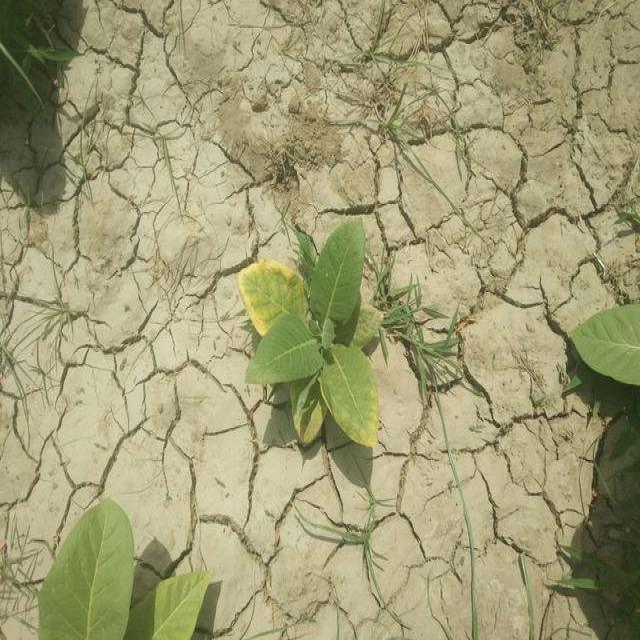crop: (232, 219, 390, 456), (29, 496, 202, 640), (576, 314, 640, 392)
